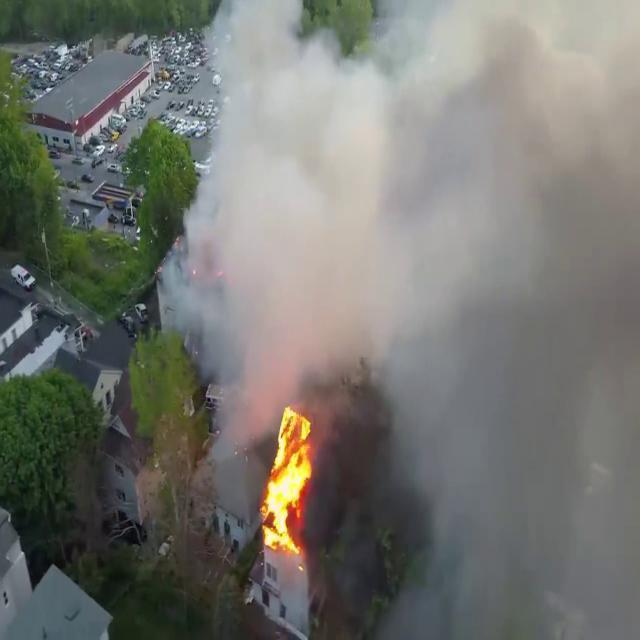Fire: (256, 399, 318, 557)
Smoke: (158, 0, 639, 444)
